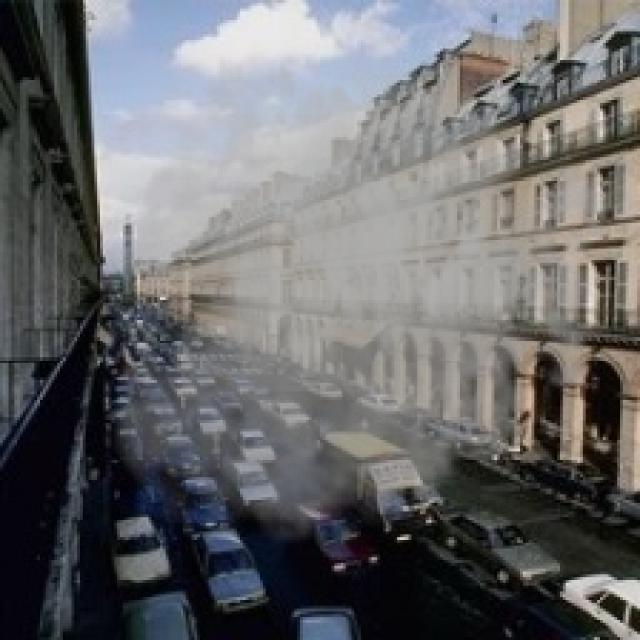Smoke: (100, 20, 626, 560)
